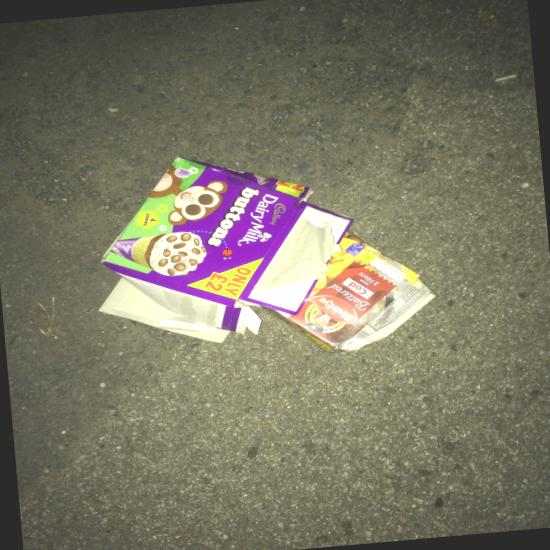Plastic film: (202, 0, 380, 69), (95, 333, 166, 431), (106, 163, 156, 210)
